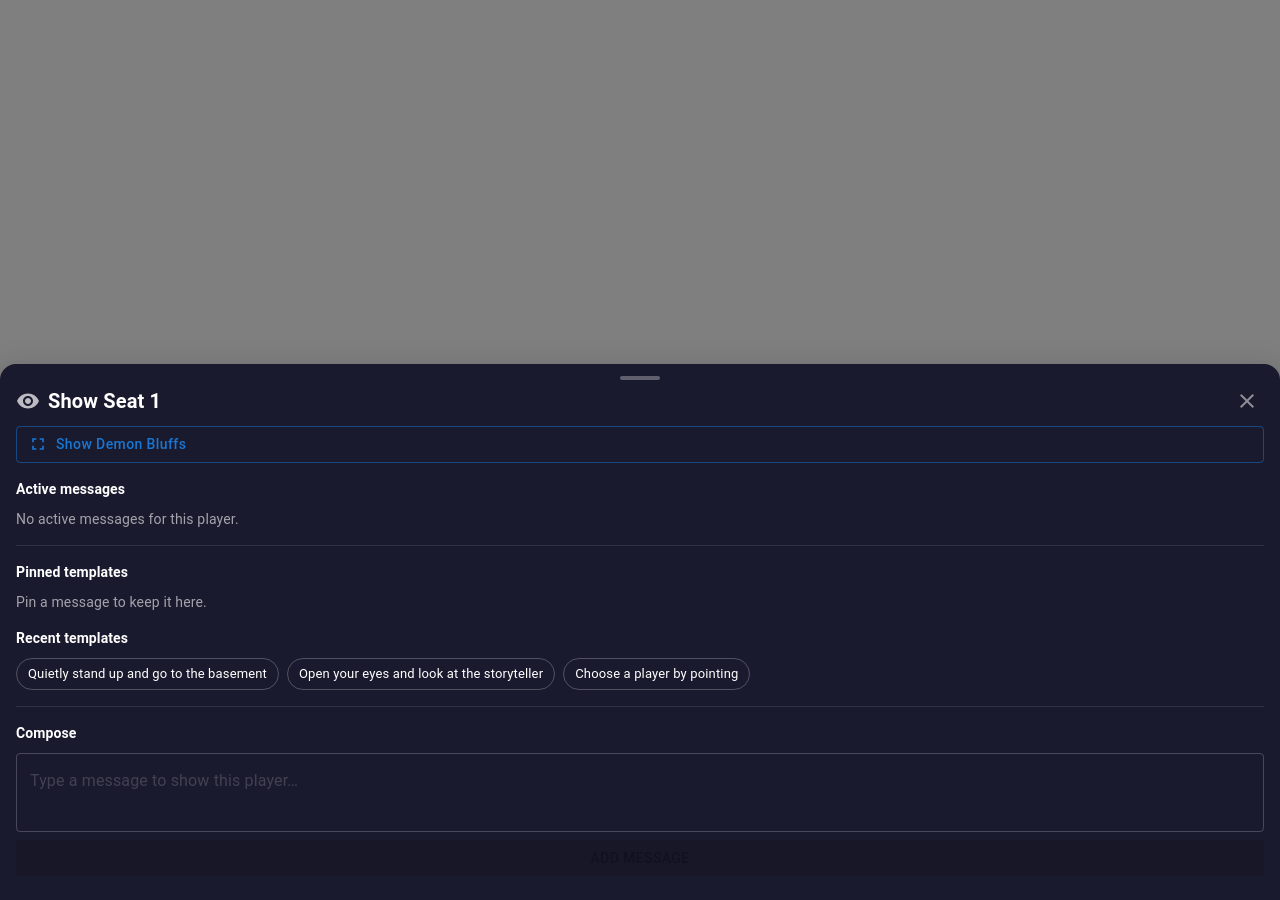
PlayerShowDrawer › opens fullscreen show screen when Show Bluffs is clicked
Click the button with test id "show-bluffs-btn": (76,444) [16,426,1264,463]
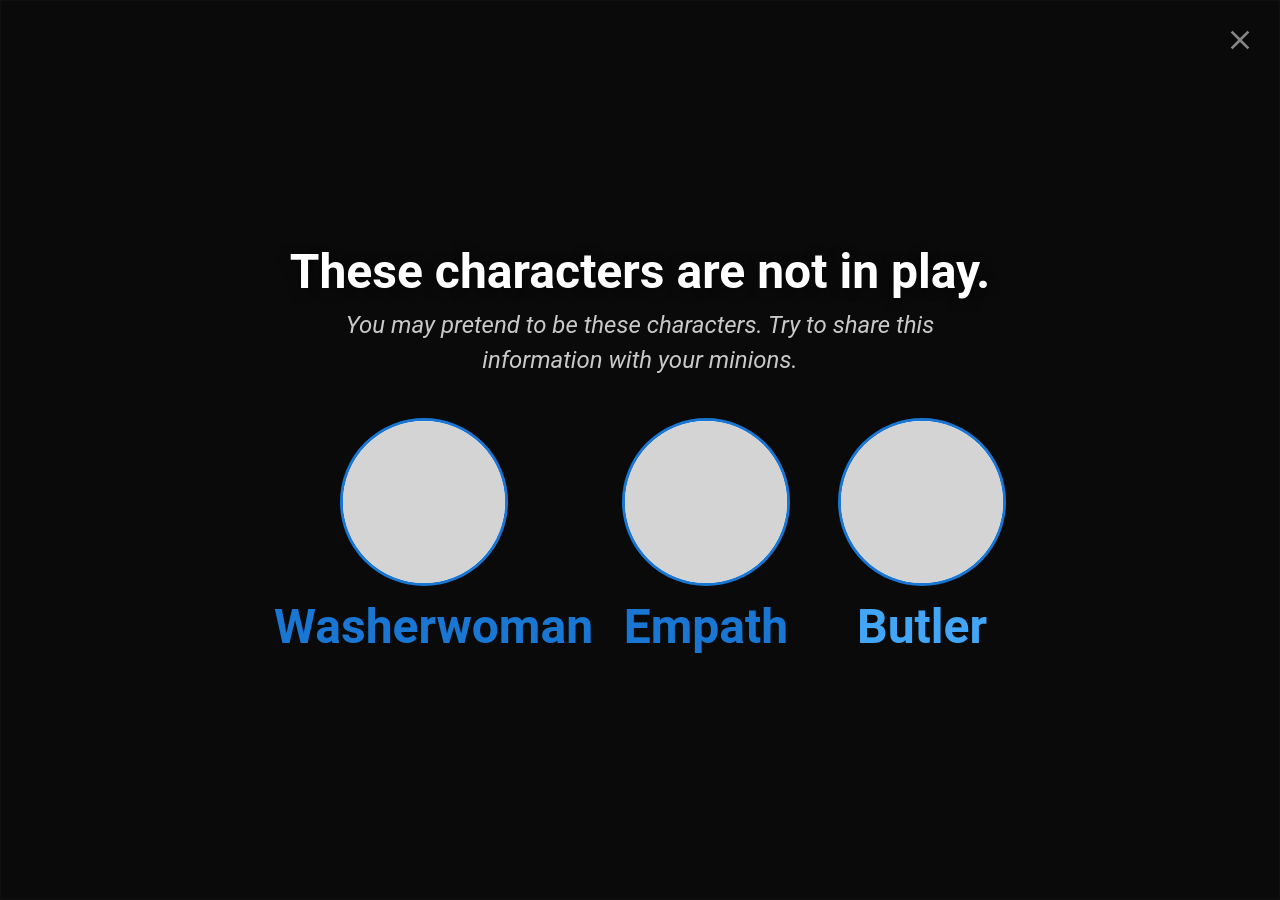
Expected: the heading "These characters are not in play." is shown, [290,244,990,300]
Expected: the heading "You may pretend to be these characters. Try to share this information with your minions." is shown, [346,311,934,374]
